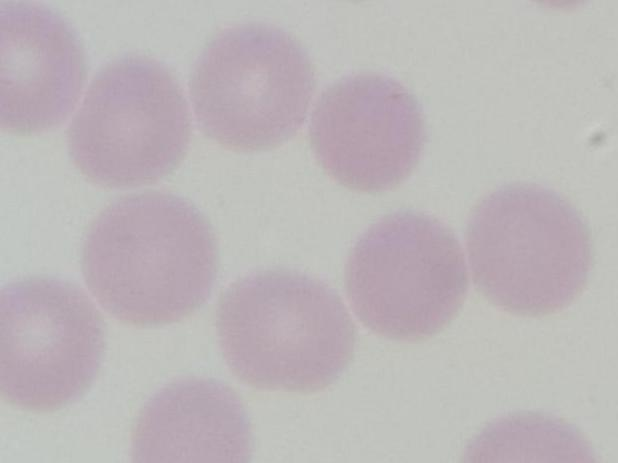Uninfected: (214, 269, 359, 392), (86, 193, 216, 326), (191, 20, 318, 154), (69, 55, 190, 192), (469, 184, 592, 317), (346, 208, 467, 342), (311, 74, 424, 192), (0, 279, 101, 411), (0, 0, 90, 133), (134, 375, 250, 463)
